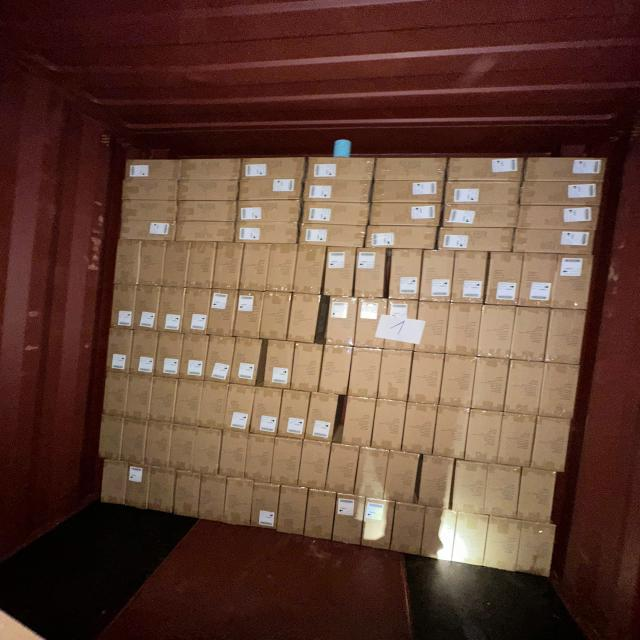Carton: (515, 223, 601, 255), (516, 203, 604, 233), (519, 178, 607, 208), (524, 153, 610, 183), (550, 252, 593, 310), (540, 362, 582, 420), (547, 310, 587, 366), (520, 523, 560, 579), (534, 415, 572, 473), (507, 360, 545, 416), (512, 308, 550, 364), (521, 468, 559, 524), (519, 253, 555, 310), (500, 412, 537, 467), (421, 506, 457, 562), (448, 155, 524, 181), (439, 226, 515, 252), (454, 462, 489, 518), (485, 517, 520, 572), (452, 513, 487, 568), (479, 305, 515, 358), (452, 252, 487, 306), (486, 253, 521, 307), (440, 203, 515, 228), (368, 224, 440, 250), (376, 155, 448, 181), (372, 178, 446, 203), (466, 408, 500, 462), (419, 456, 453, 510), (486, 465, 520, 519), (368, 202, 441, 227), (445, 182, 521, 206), (391, 502, 424, 557), (447, 303, 481, 356), (475, 357, 509, 410), (436, 405, 470, 458), (389, 250, 423, 302), (342, 397, 376, 449), (421, 250, 453, 304), (308, 155, 377, 180), (306, 181, 375, 206), (411, 353, 444, 405), (379, 350, 412, 402), (443, 356, 476, 408), (405, 402, 438, 454), (386, 452, 418, 504), (361, 499, 393, 551), (356, 299, 388, 351), (416, 302, 448, 354), (349, 348, 380, 401), (388, 298, 419, 351), (354, 249, 386, 300), (375, 399, 406, 451), (301, 202, 368, 226), (299, 223, 366, 247), (238, 199, 302, 224), (178, 216, 239, 242), (241, 180, 307, 204), (324, 248, 355, 299), (307, 392, 338, 443), (333, 496, 364, 547), (357, 446, 387, 498), (118, 197, 178, 223), (242, 156, 307, 180), (289, 294, 320, 344), (180, 180, 242, 205), (320, 344, 350, 395), (306, 491, 336, 542), (330, 442, 359, 494), (292, 341, 322, 391), (328, 296, 358, 346), (182, 156, 242, 181), (236, 220, 298, 244), (294, 247, 324, 296), (265, 340, 295, 389), (302, 440, 331, 490), (278, 486, 307, 536), (279, 389, 308, 439), (240, 243, 270, 291), (233, 338, 263, 386), (124, 158, 184, 182), (263, 292, 292, 341), (269, 245, 298, 294), (273, 438, 302, 487), (187, 241, 216, 289), (225, 478, 254, 526), (252, 388, 280, 437), (227, 385, 255, 434), (247, 434, 274, 484), (214, 244, 242, 292), (236, 292, 264, 340), (200, 381, 228, 429), (208, 292, 237, 338), (178, 200, 238, 222), (147, 467, 175, 514), (120, 220, 179, 242), (195, 428, 222, 476), (200, 474, 227, 522), (207, 336, 234, 383), (220, 432, 247, 479), (115, 242, 142, 289), (174, 471, 200, 519), (251, 483, 278, 529), (164, 242, 191, 288), (96, 415, 123, 461), (105, 370, 132, 416), (182, 290, 208, 337), (101, 461, 128, 506), (171, 426, 196, 474), (159, 289, 185, 335), (181, 335, 207, 381), (139, 243, 165, 289), (146, 423, 172, 469), (176, 382, 202, 428), (105, 330, 132, 374), (132, 332, 158, 377), (158, 334, 184, 379), (123, 418, 149, 463), (128, 374, 153, 420), (151, 377, 176, 422), (135, 288, 160, 333), (127, 464, 150, 512), (110, 288, 136, 330), (122, 180, 178, 199)
